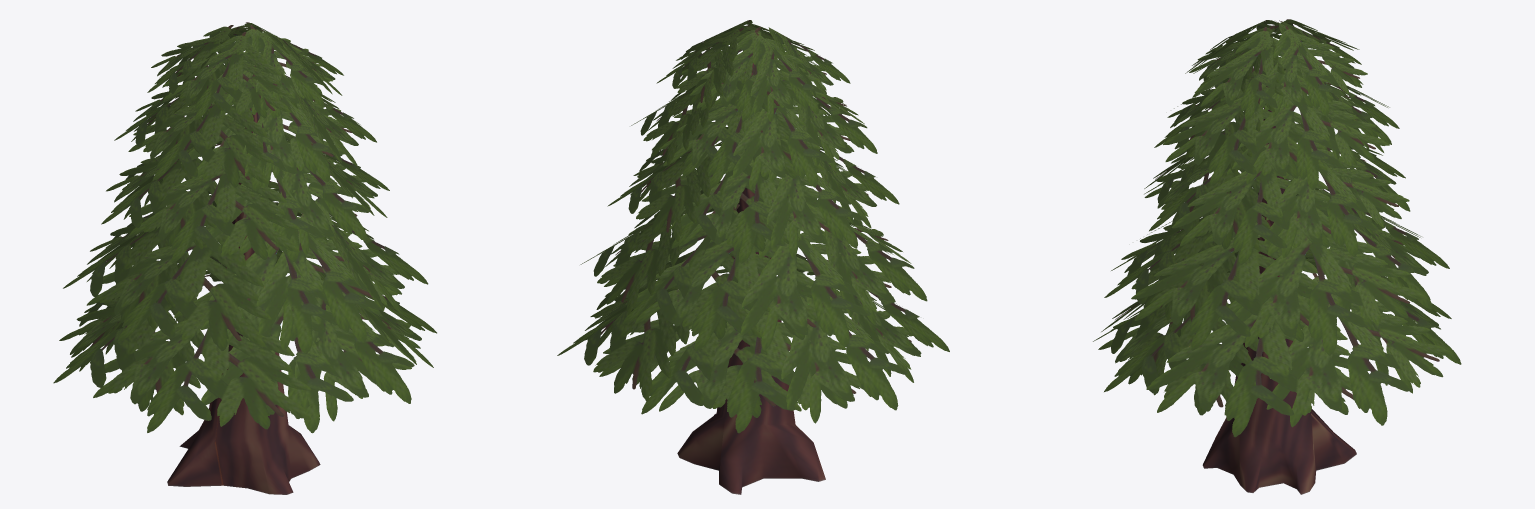
Rendered from tree-trunk-011-30.glb.
3 renders of one model, left to right at view 1: azimuth 30°, elevation 25°; view 2: azimuth 150°, elevation 25°; view 3: azimuth 270°, elevation 25°, orthographic.
Parts seen in each view (by area): view 1: spruce_leaves.002_29, Tree_Trunk.011_30; view 2: spruce_leaves.002_29, Tree_Trunk.011_30; view 3: spruce_leaves.002_29, Tree_Trunk.011_30.
Boxes of the visible parts, box(x1,y1,x2,y2) form: spruce_leaves.002_29: box(53, 22, 436, 433); Tree_Trunk.011_30: box(167, 66, 320, 494); spruce_leaves.002_29: box(557, 20, 949, 433); Tree_Trunk.011_30: box(677, 63, 825, 494); spruce_leaves.002_29: box(1093, 19, 1461, 437); Tree_Trunk.011_30: box(1202, 86, 1356, 494).
Size of the model in its own units: 22.48 by 21.77 by 21.5.
2 materials, 2 textured.
